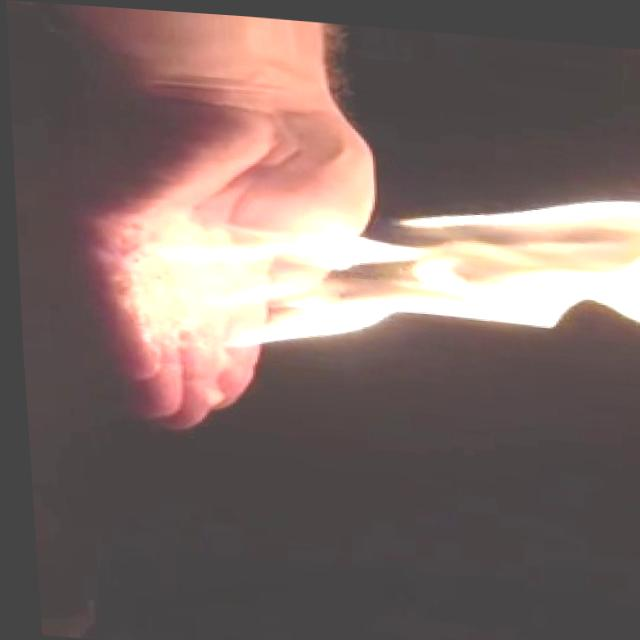helmet: (130, 146, 640, 379)
